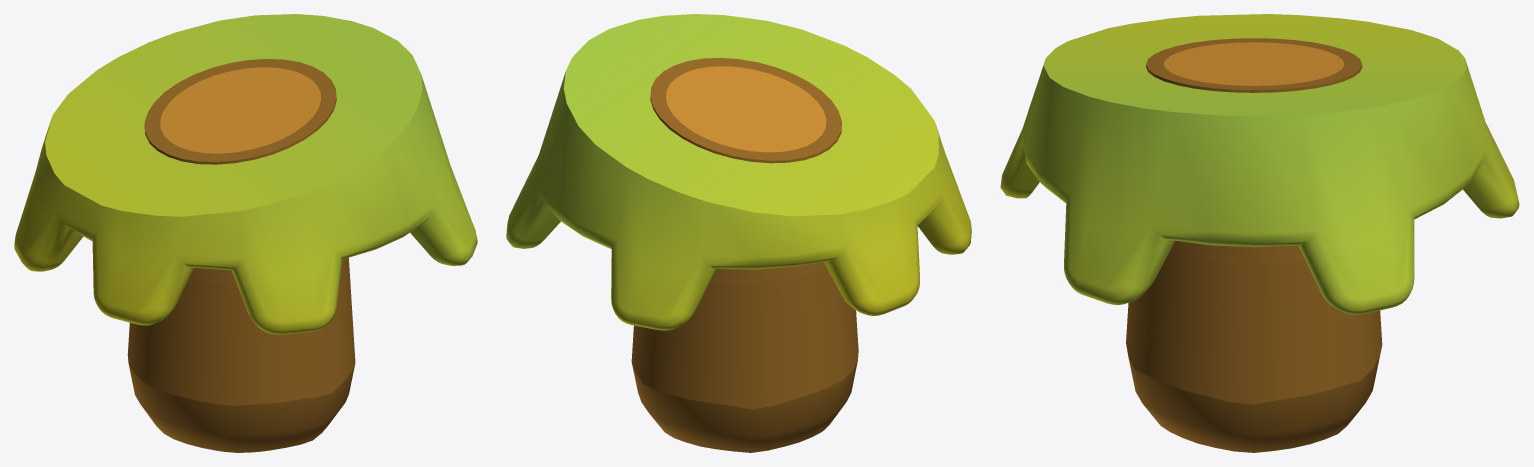
Rendered from tree1 40%.fbx.
3 views of the same model, side by side, from view 1: azimuth 30°, elevation 25°; view 2: azimuth 150°, elevation 25°; view 3: azimuth 270°, elevation 25° (orthographic). The views are drawn at different scales.
Visible parts, largest first — view 1: Cylinder.010; view 2: Cylinder.010; view 3: Cylinder.010.
Part boxes in pixels (x1=…): Cylinder.010: x1=14, y1=14, x2=477, y2=452; Cylinder.010: x1=506, y1=14, x2=971, y2=452; Cylinder.010: x1=1000, y1=14, x2=1519, y2=452.
Size of the model in its own units: 90.83 by 78.17 by 94.36.
